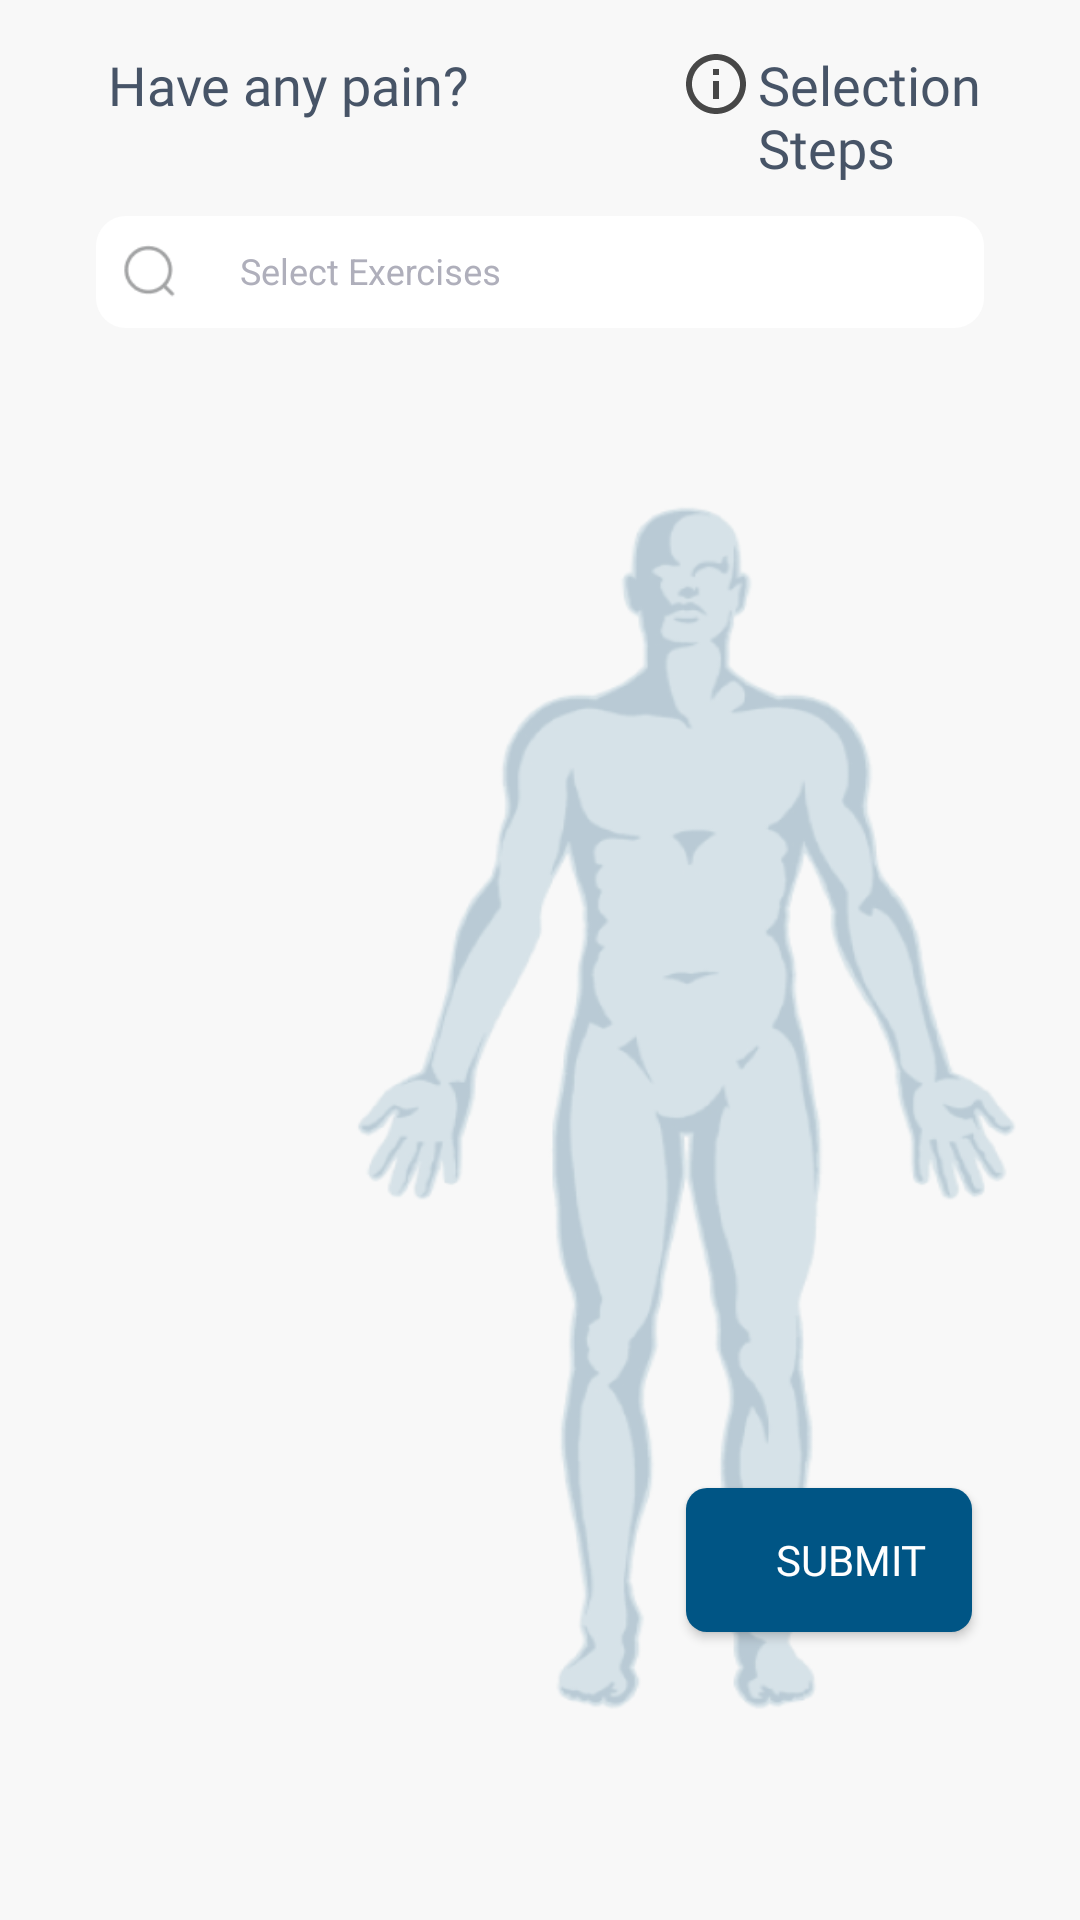

Screen size 1080 x 1920. Icon name, then its box in pixels as BBox(x1, y1, x2, y2):
info: BBox(686, 54, 746, 114)
search: BBox(124, 246, 174, 296)
